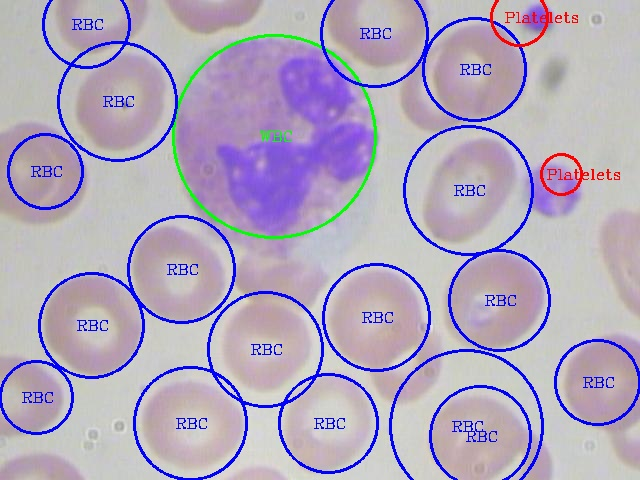Platelets: (515, 154, 592, 223), (514, 0, 562, 39)
RBC: (34, 269, 149, 377), (434, 248, 550, 353), (414, 132, 521, 243), (134, 372, 250, 471), (320, 263, 428, 368), (125, 219, 230, 324), (68, 46, 172, 151), (0, 115, 94, 229), (428, 18, 532, 121), (276, 366, 376, 471), (419, 385, 528, 478), (216, 297, 316, 393), (555, 329, 639, 431), (321, 1, 434, 69), (453, 418, 561, 478), (1, 349, 69, 439), (46, 0, 154, 54), (591, 202, 639, 322), (233, 249, 323, 306)
WBC: (152, 27, 390, 273)
